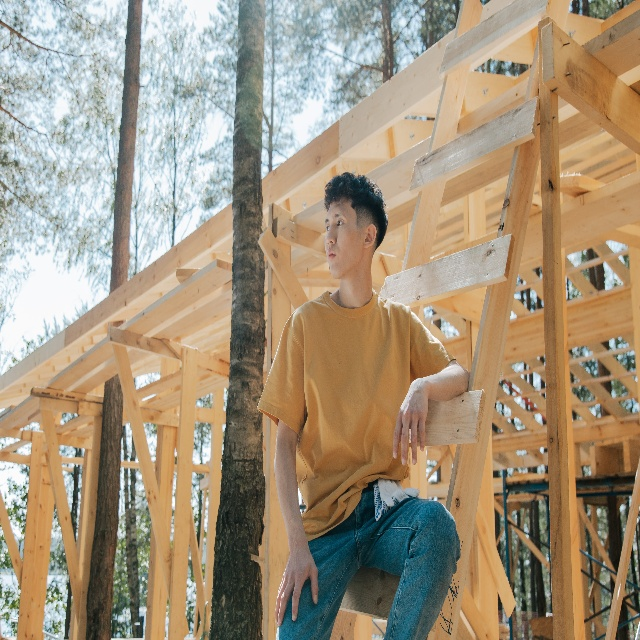Sin_guantes: (273, 546, 319, 618), (392, 383, 430, 464)
